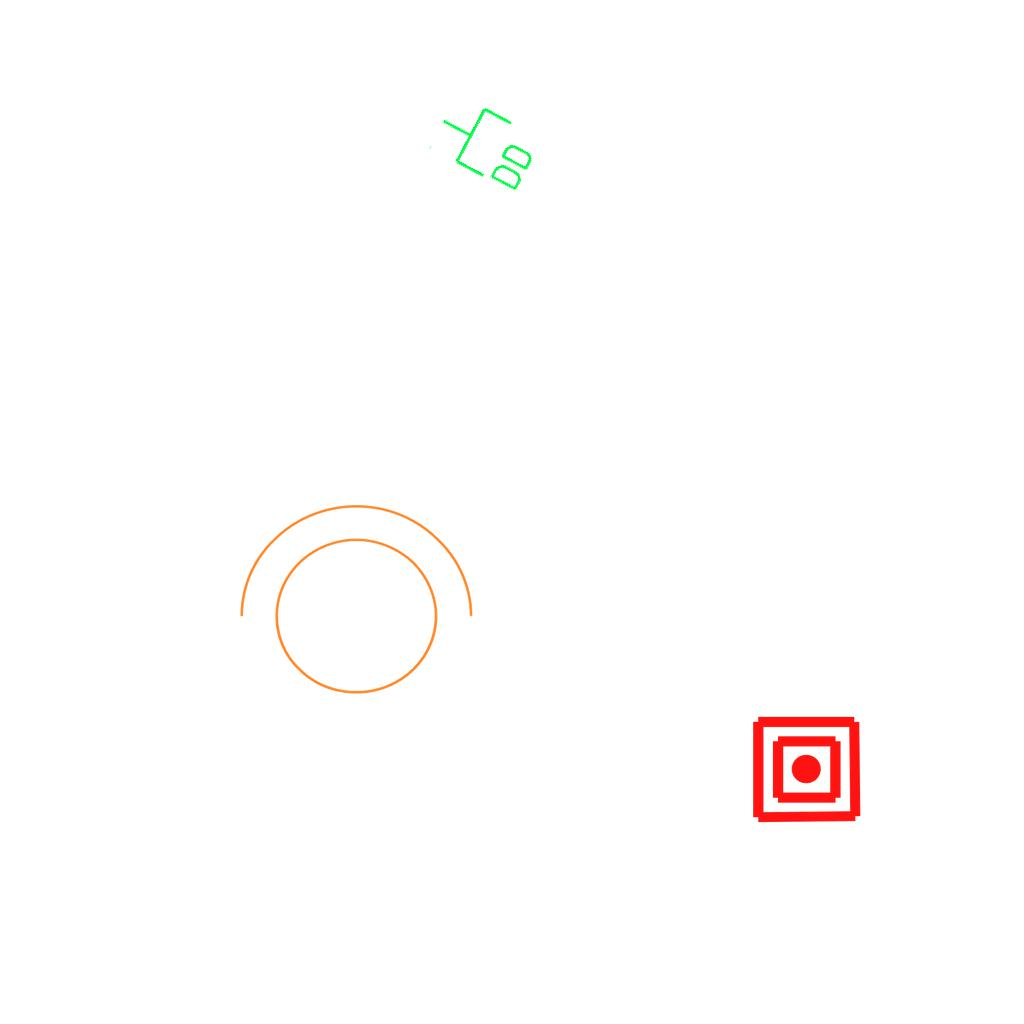Datenanschluss_zweifach: (424, 89, 549, 200)
NAM-Nichtautomatischer_Melder: (750, 713, 863, 826)
Scheinwerfer_fuer_Alarmbeleuchtung: (218, 494, 482, 719)
